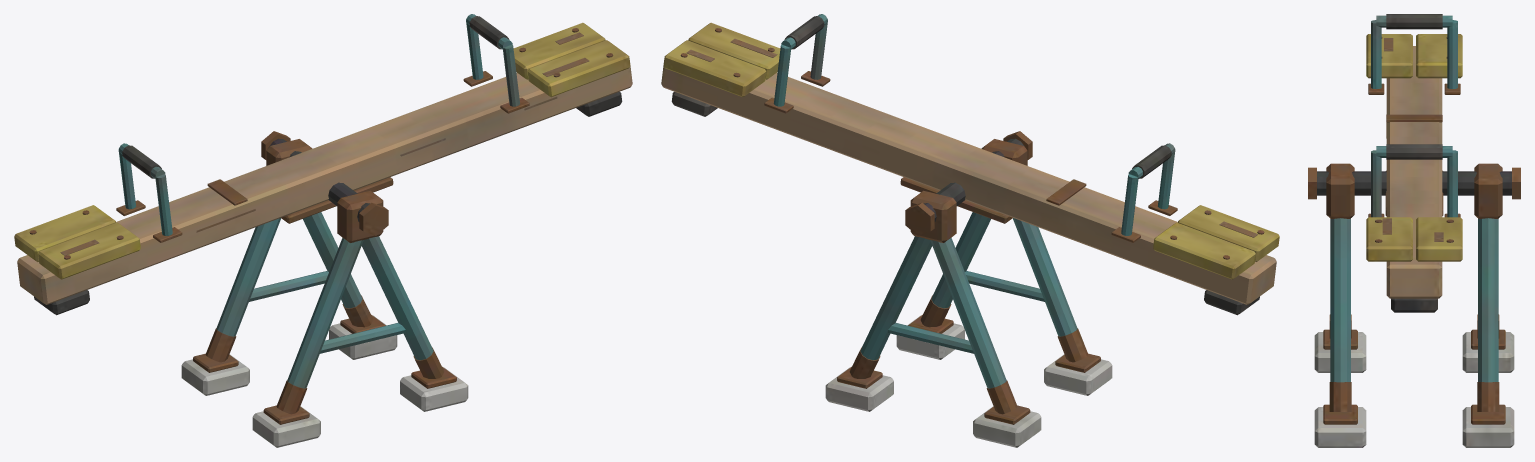
The model's file is S08_seesaw.glb.
3 renders of one model, left to right at view 1: azimuth 30°, elevation 25°; view 2: azimuth 150°, elevation 25°; view 3: azimuth 270°, elevation 25°, orthographic. The views are drawn at different scales.
Parts seen in each view (by area): view 1: Weathered concrete footing; view 2: Weathered concrete footing; view 3: Weathered concrete footing.
Boxes of the visible parts, x1,y1,x2,y2 form: Weathered concrete footing: (14,14,632,447); Weathered concrete footing: (661,14,1279,447); Weathered concrete footing: (1308,14,1520,447).
Bounding box in the file's own units: 3 × 1.57 × 0.896.
8 materials, 8 textured.
